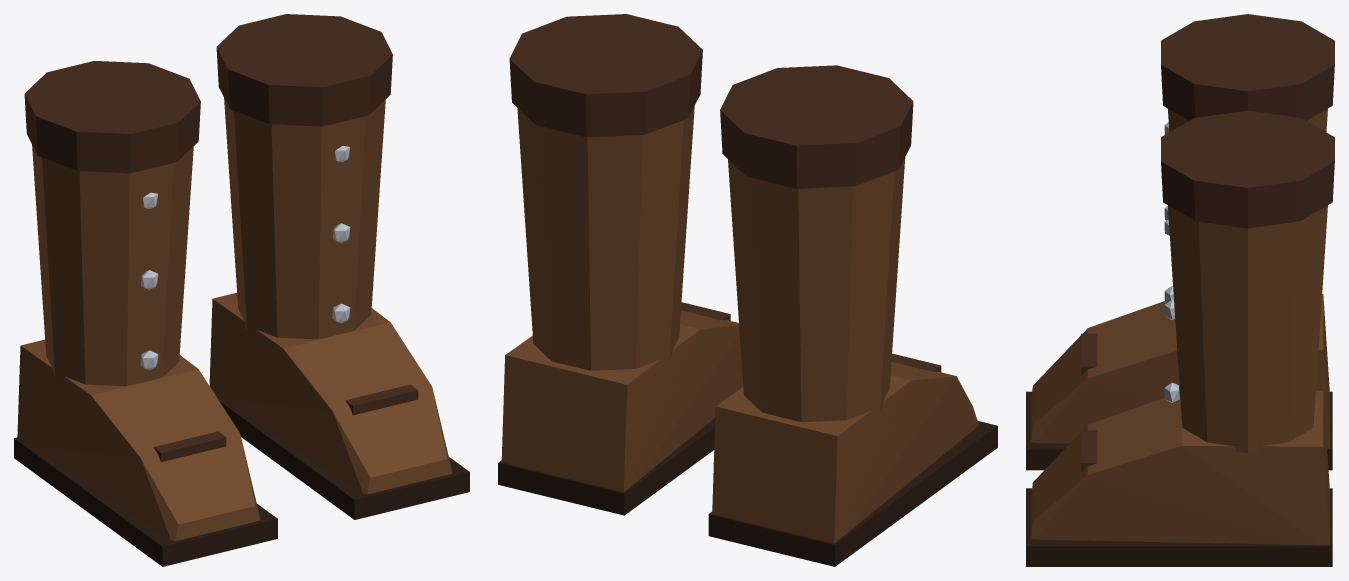
The model's file is drop_boots_studded.glb.
3 renders of one model, left to right at view 1: azimuth 30°, elevation 25°; view 2: azimuth 150°, elevation 25°; view 3: azimuth 270°, elevation 25°, orthographic. The views are drawn at different scales.
Visible parts, largest first — view 1: drop_boots_studded; view 2: drop_boots_studded; view 3: drop_boots_studded.
Part boxes in pixels (bbox=[...]): drop_boots_studded: bbox=[14, 14, 469, 566]; drop_boots_studded: bbox=[498, 14, 997, 566]; drop_boots_studded: bbox=[1026, 14, 1334, 566].
Size of the model in its own units: 0.216 by 0.225 by 0.1621.
